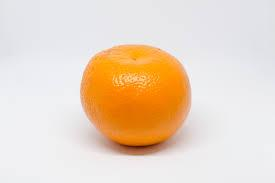orange: (70, 32, 195, 144)
